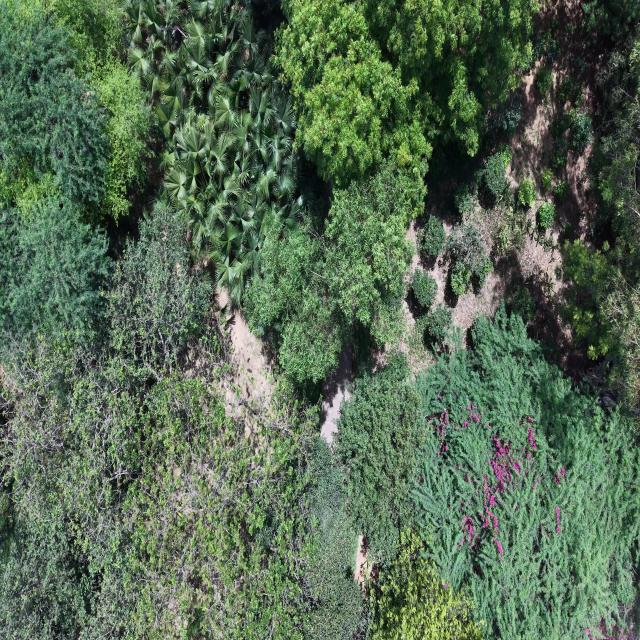DRY_AREA: (411, 235, 562, 334), (218, 291, 274, 415), (321, 345, 353, 445)
VEGETATION_TREE: (0, 0, 639, 639), (0, 2, 311, 638), (0, 211, 311, 638), (339, 310, 639, 638), (0, 352, 303, 638), (411, 312, 639, 638), (125, 0, 312, 305), (273, 2, 532, 213), (0, 2, 148, 341), (277, 0, 534, 185), (119, 380, 303, 637), (244, 164, 420, 383), (0, 0, 149, 220), (564, 0, 639, 410), (275, 0, 431, 187), (563, 28, 639, 408), (364, 0, 535, 154), (52, 0, 156, 223), (0, 0, 109, 207), (337, 356, 424, 563), (105, 203, 210, 371), (325, 165, 421, 343), (0, 194, 111, 341), (244, 227, 342, 381), (305, 438, 370, 639), (0, 505, 93, 639), (372, 529, 481, 639), (595, 35, 639, 284), (92, 59, 150, 221), (596, 38, 639, 241), (464, 147, 537, 261), (15, 0, 124, 76), (562, 240, 612, 359), (598, 283, 639, 406), (411, 269, 452, 349), (446, 225, 492, 295), (550, 107, 592, 169), (584, 0, 639, 37), (492, 205, 529, 259), (481, 149, 510, 204), (489, 92, 521, 135), (424, 303, 452, 347), (532, 22, 560, 65), (418, 216, 446, 257), (508, 286, 536, 325), (550, 114, 569, 171), (411, 269, 437, 309), (569, 109, 592, 153), (557, 75, 583, 106), (450, 264, 471, 295), (454, 184, 474, 216), (549, 112, 570, 140), (518, 179, 537, 208), (552, 137, 567, 171), (536, 66, 552, 96), (538, 202, 555, 229), (553, 180, 568, 203), (541, 168, 553, 191)
